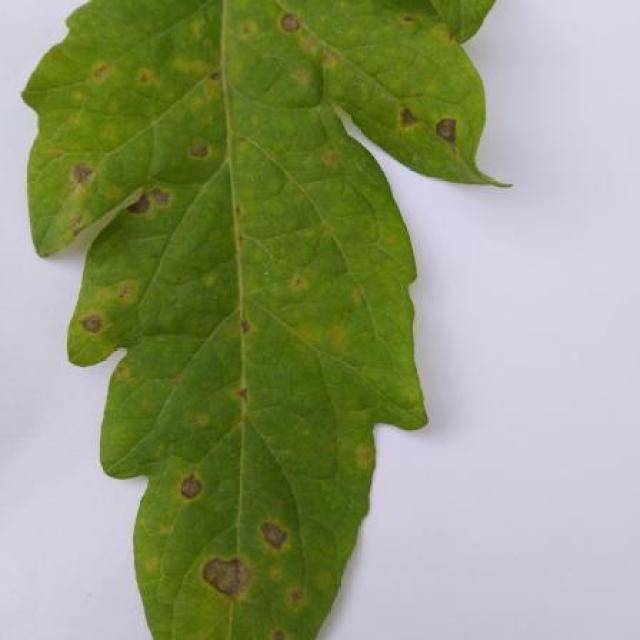Early Blight: (18, 0, 486, 640)
